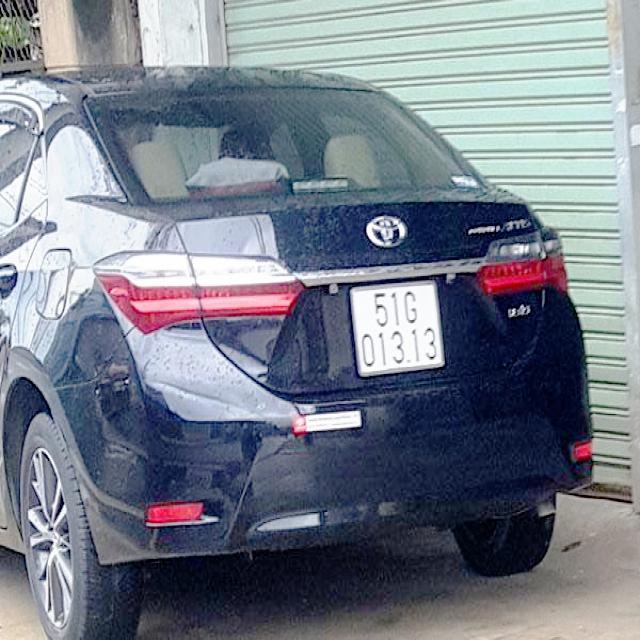license_plate: (350, 284, 446, 377)
